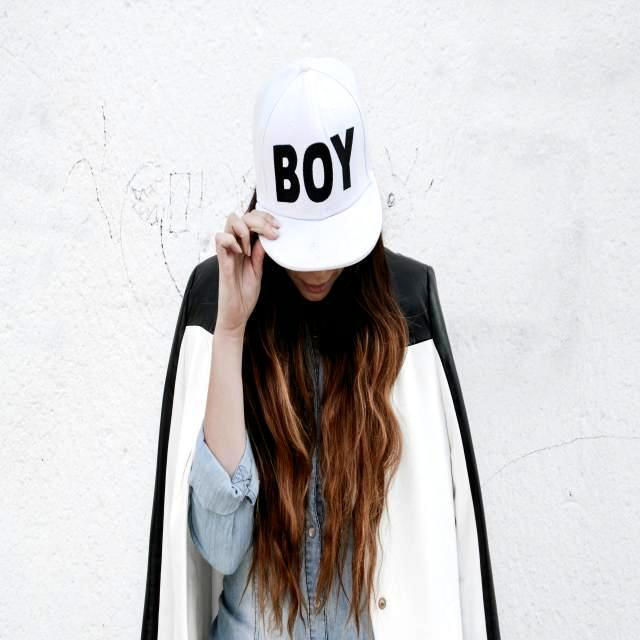no_hard_hat: (254, 59, 381, 270)
person: (138, 60, 505, 640)
